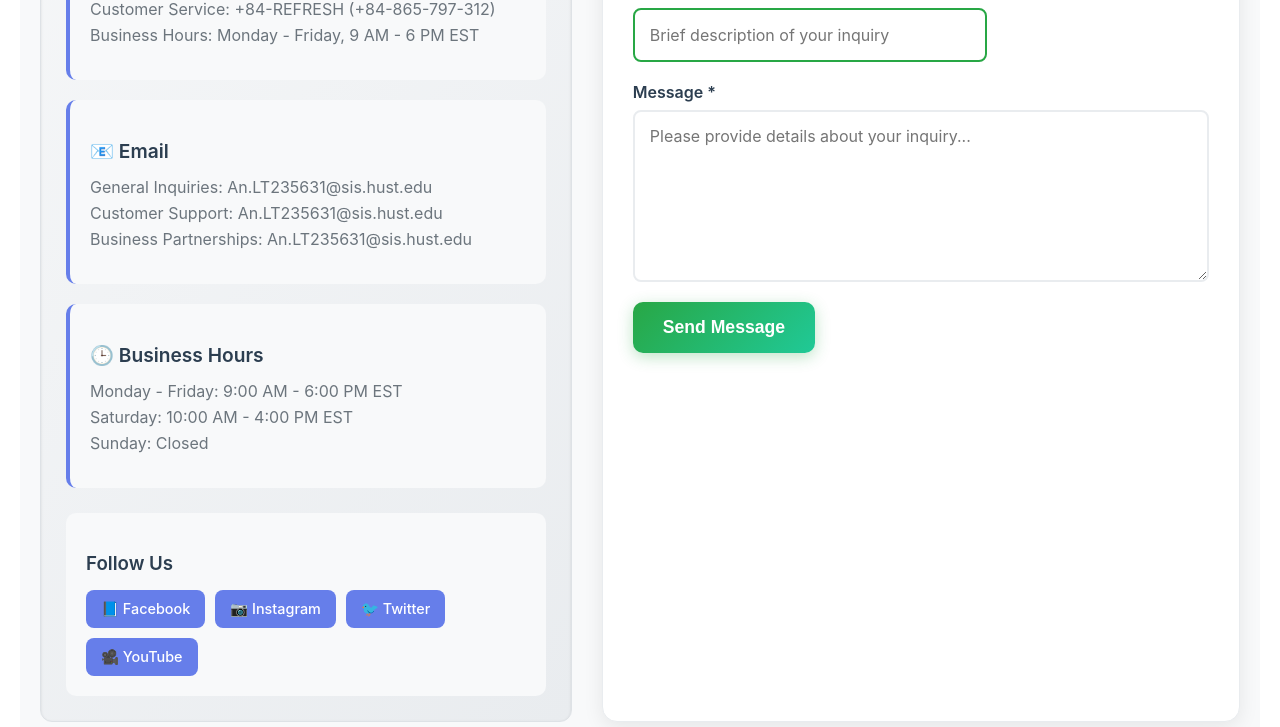
Contact Component › shows validation errors for empty required fields
The image size is (1280, 727).
(page scrolled)
Click the button "Send Message" at [724, 328], box [633,302,815,353]
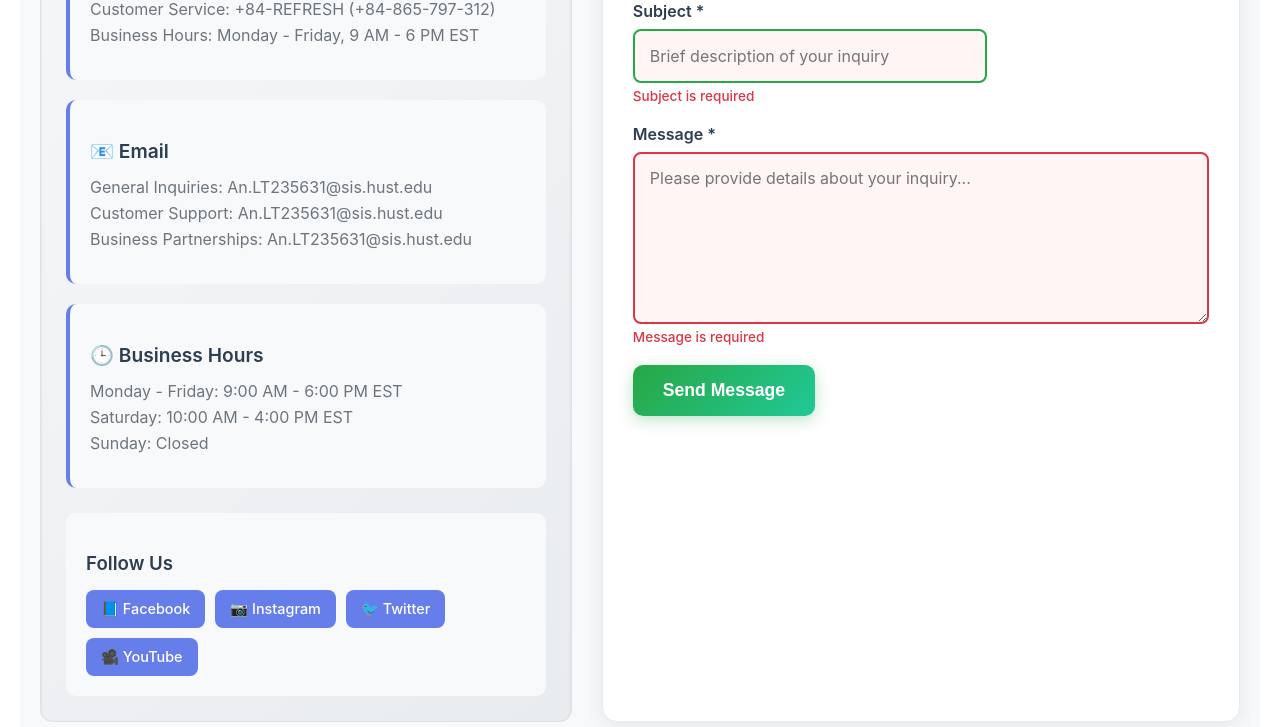
expect the text "Subject is required" is shown: met, box [633,88,754,104]
expect the text "Message is required" is shown: met, box [633,329,764,345]
